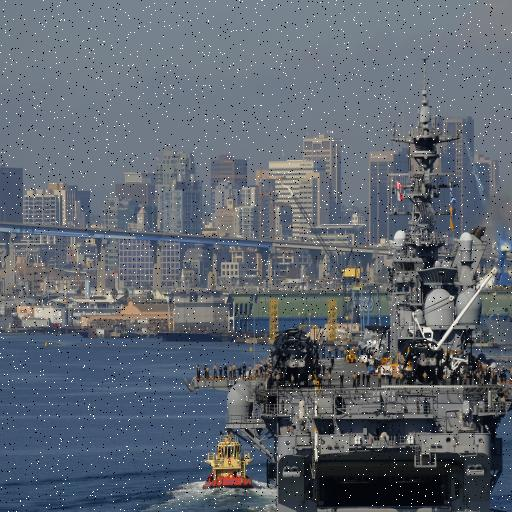Portanaves: (181, 53, 512, 512)
